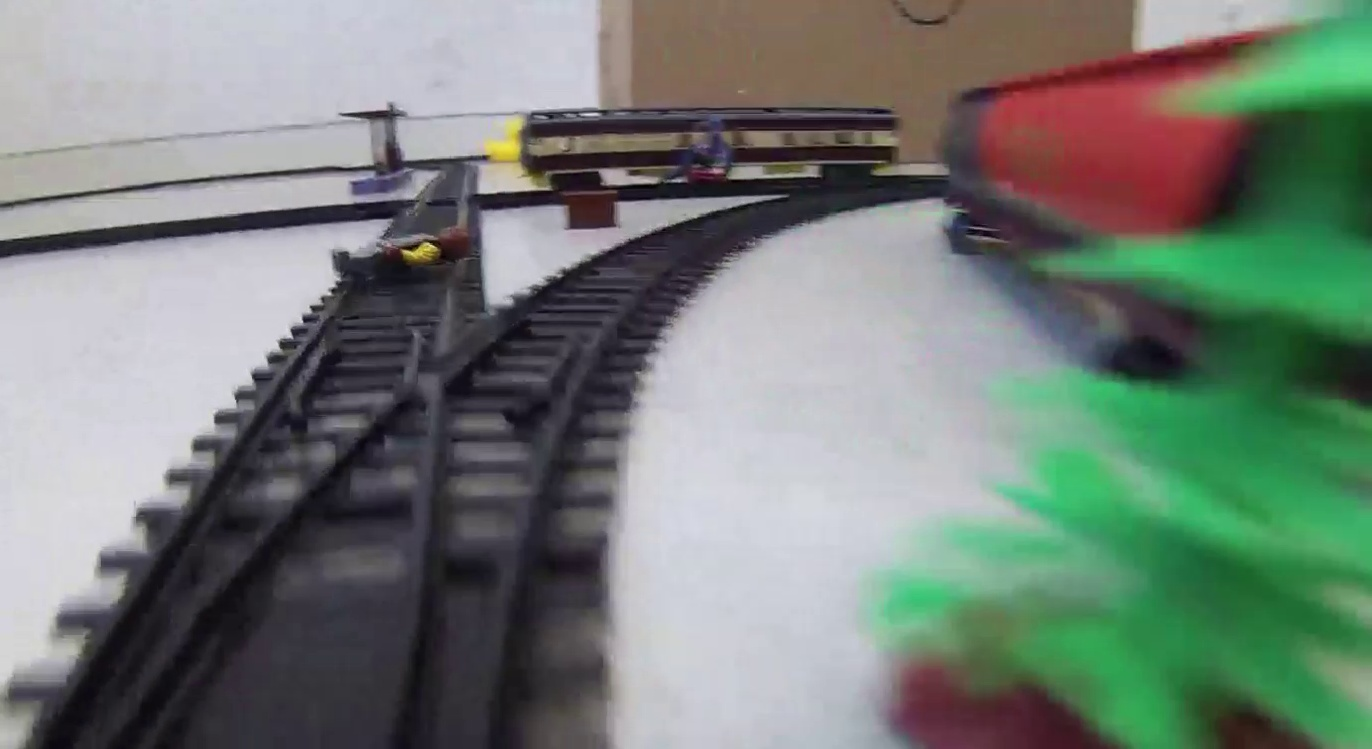box: (564, 189, 621, 231)
people: (329, 227, 475, 277)
